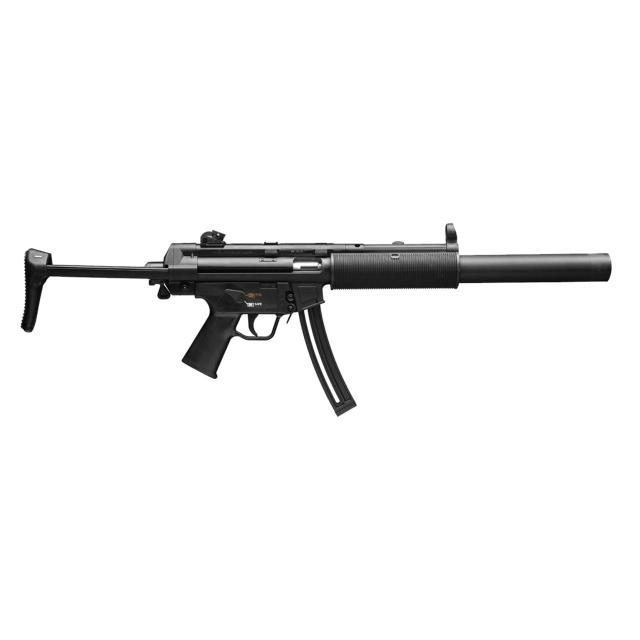SMG: (20, 224, 614, 418)
